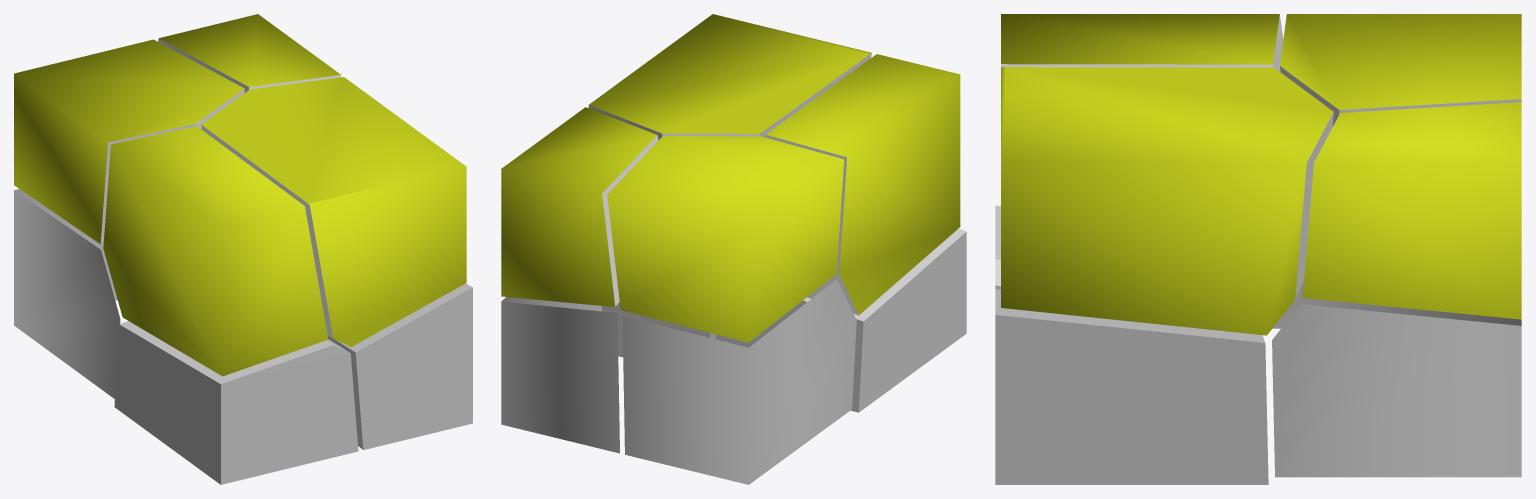
Rendered from Structure_Tower_Knight_Human_03_debris_cells_main_structure_02.fbx.
3 renders of one model, left to right at view 1: azimuth 30°, elevation 25°; view 2: azimuth 150°, elevation 25°; view 3: azimuth 270°, elevation 25°, orthographic. The views are drawn at different scales.
Visible parts, largest first — view 1: Structure_Tower_Knight_Human_03.006_cell.001, Structure_Tower_Knight_Human_03.006_cell.005, Structure_Tower_Knight_Human_03.006_cell, Structure_Tower_Knight_Human_03.006_cell.003, Structure_Tower_Knight_Human_03.006_cell.004, Structure_Tower_Knight_Human_03.006_cell.002, Structure_Tower_Knight_Human_03.006_cell.007; view 2: Structure_Tower_Knight_Human_03.006_cell.003, Structure_Tower_Knight_Human_03.006_cell.002, Structure_Tower_Knight_Human_03.006_cell.001, Structure_Tower_Knight_Human_03.006_cell.007, Structure_Tower_Knight_Human_03.006_cell.005, Structure_Tower_Knight_Human_03.006_cell.006, Structure_Tower_Knight_Human_03.006_cell, Structure_Tower_Knight_Human_03.006_cell.004; view 3: Structure_Tower_Knight_Human_03.006_cell.005, Structure_Tower_Knight_Human_03.006_cell.004, Structure_Tower_Knight_Human_03.006_cell.007, Structure_Tower_Knight_Human_03.006_cell.006, Structure_Tower_Knight_Human_03.006_cell.003, Structure_Tower_Knight_Human_03.006_cell.001, Structure_Tower_Knight_Human_03.006_cell.002.
Boxes of the visible parts, x1,y1,x2,y2 form: Structure_Tower_Knight_Human_03.006_cell.001: [103, 126, 328, 376]; Structure_Tower_Knight_Human_03.006_cell.005: [201, 77, 466, 346]; Structure_Tower_Knight_Human_03.006_cell: [114, 321, 358, 484]; Structure_Tower_Knight_Human_03.006_cell.003: [14, 39, 244, 244]; Structure_Tower_Knight_Human_03.006_cell.004: [328, 283, 472, 449]; Structure_Tower_Knight_Human_03.006_cell.002: [14, 189, 120, 398]; Structure_Tower_Knight_Human_03.006_cell.007: [158, 14, 341, 93]; Structure_Tower_Knight_Human_03.006_cell.003: [607, 136, 844, 342]; Structure_Tower_Knight_Human_03.006_cell.002: [622, 279, 856, 484]; Structure_Tower_Knight_Human_03.006_cell.001: [765, 54, 960, 315]; Structure_Tower_Knight_Human_03.006_cell.007: [501, 107, 658, 306]; Structure_Tower_Knight_Human_03.006_cell.005: [588, 14, 871, 140]; Structure_Tower_Knight_Human_03.006_cell.006: [501, 297, 619, 453]; Structure_Tower_Knight_Human_03.006_cell: [715, 228, 966, 412]; Structure_Tower_Knight_Human_03.006_cell.004: [602, 302, 715, 357]; Structure_Tower_Knight_Human_03.006_cell.005: [1001, 67, 1333, 335]; Structure_Tower_Knight_Human_03.006_cell.004: [995, 289, 1268, 484]; Structure_Tower_Knight_Human_03.006_cell.007: [1302, 102, 1521, 319]; Structure_Tower_Knight_Human_03.006_cell.006: [1272, 304, 1521, 477]; Structure_Tower_Knight_Human_03.006_cell.003: [1280, 14, 1521, 125]; Structure_Tower_Knight_Human_03.006_cell.001: [1001, 14, 1283, 71]; Structure_Tower_Knight_Human_03.006_cell.002: [1272, 280, 1521, 328].
Size of the model in its own units: 314 by 305 by 455.
